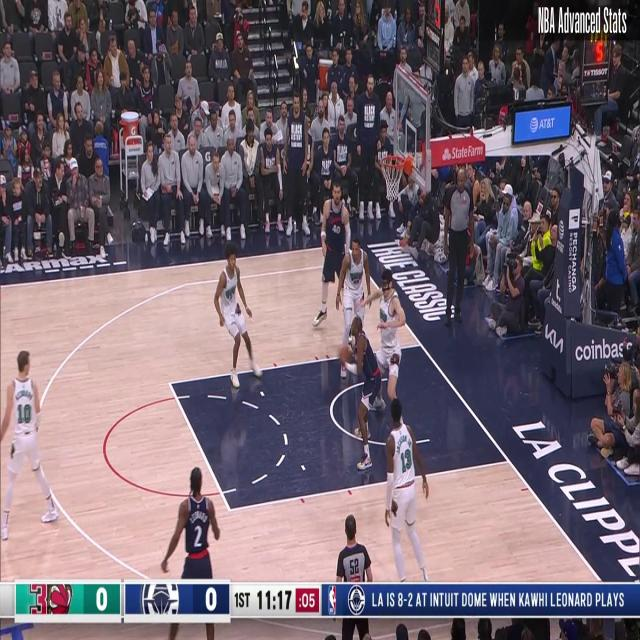ball: (337, 342, 351, 366)
judge: (334, 512, 374, 640), (444, 170, 473, 324)
player: (1, 351, 59, 537), (160, 468, 219, 634), (339, 312, 392, 469), (386, 407, 432, 580), (214, 244, 264, 395), (317, 182, 354, 355), (361, 273, 404, 417), (336, 237, 372, 387)
